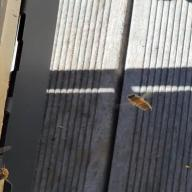Bee: (121, 90, 160, 115), (0, 158, 16, 192)
